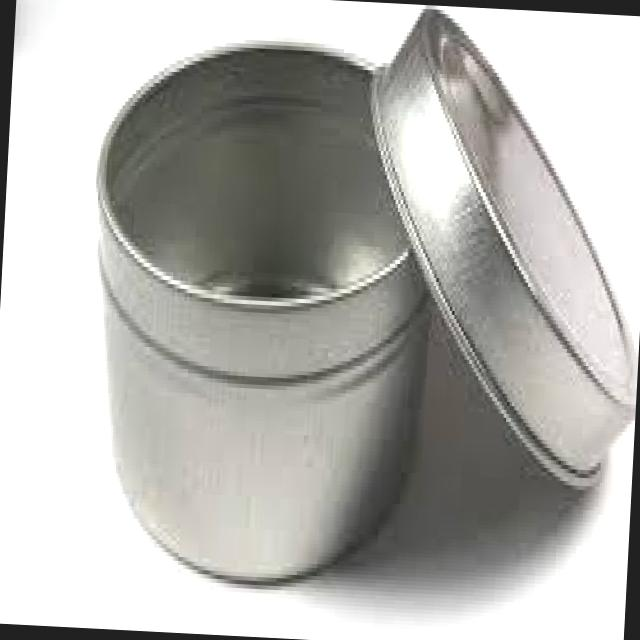kim_loai: (94, 41, 433, 590), (370, 9, 638, 489)
